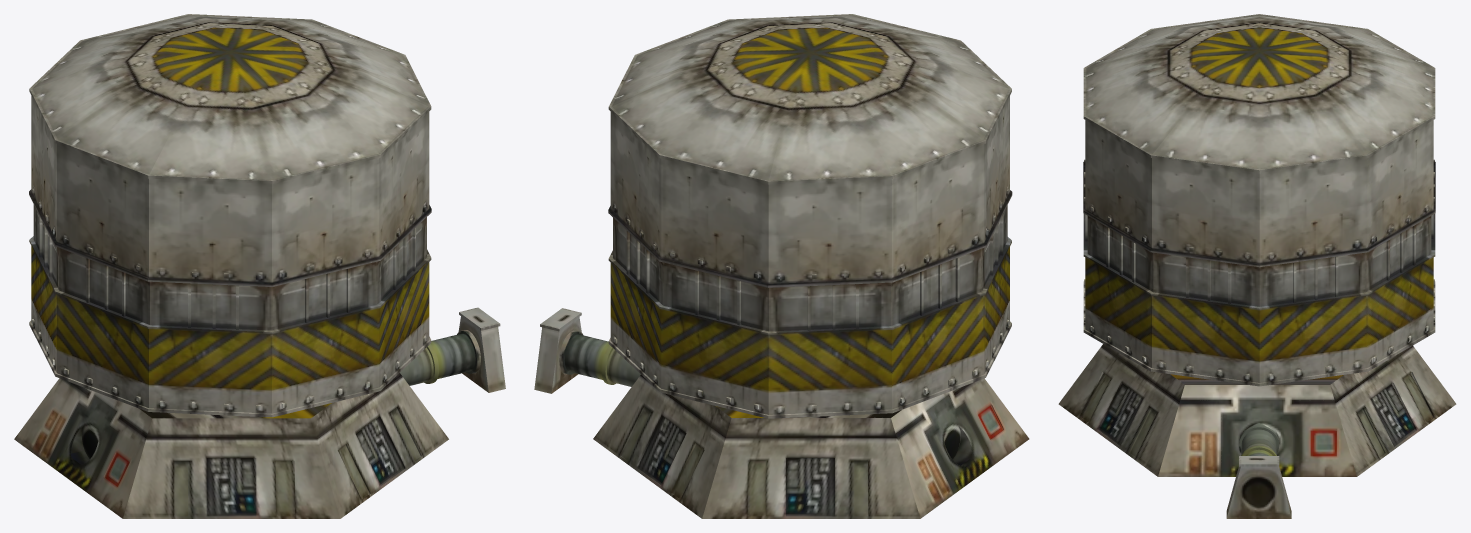
Rendered from largefueltank_cad.glb.
3 renders of one model, left to right at view 1: azimuth 30°, elevation 25°; view 2: azimuth 150°, elevation 25°; view 3: azimuth 270°, elevation 25°, orthographic. The views are drawn at different scales.
Parts seen in each view (by area): view 1: BigAssTank; view 2: BigAssTank; view 3: BigAssTank.
Boxes of the visible parts, x1,y1,x2,y2 form: BigAssTank: (14, 14, 505, 518); BigAssTank: (534, 14, 1029, 518); BigAssTank: (1058, 14, 1456, 518).
Size of the model in its own units: 21.54 by 18.3 by 18.71.
Materials: 1 (1 with a texture image).
